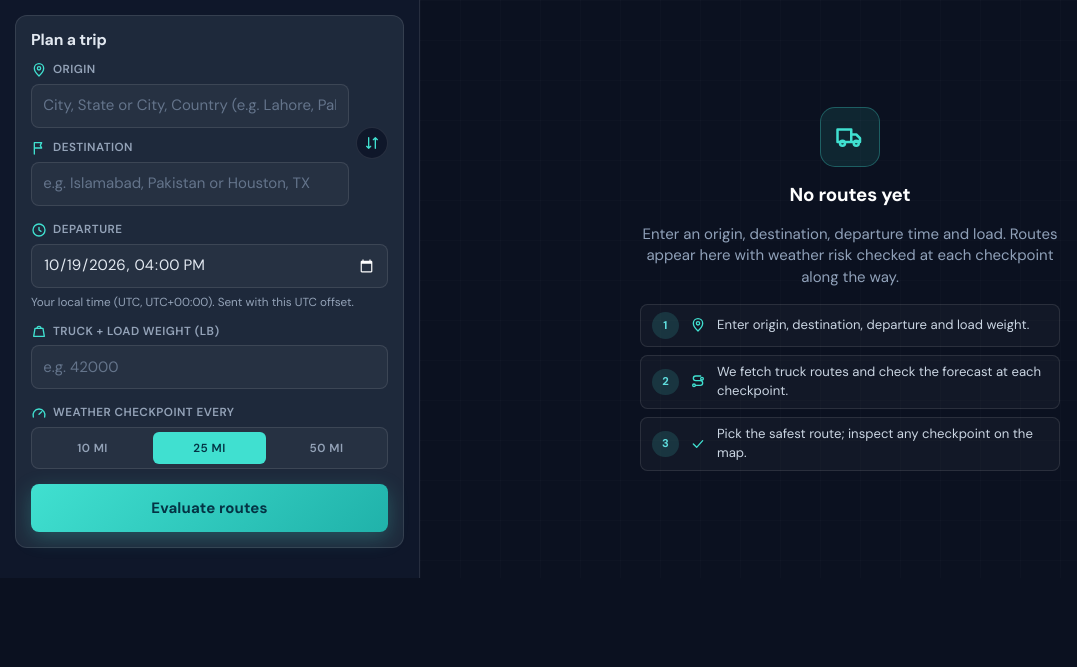
it: RoutePlanner › blocks submission and shows field errors for invalid input
Click the button "Evaluate routes". click: (210, 508)
box: [31,484,388,532]
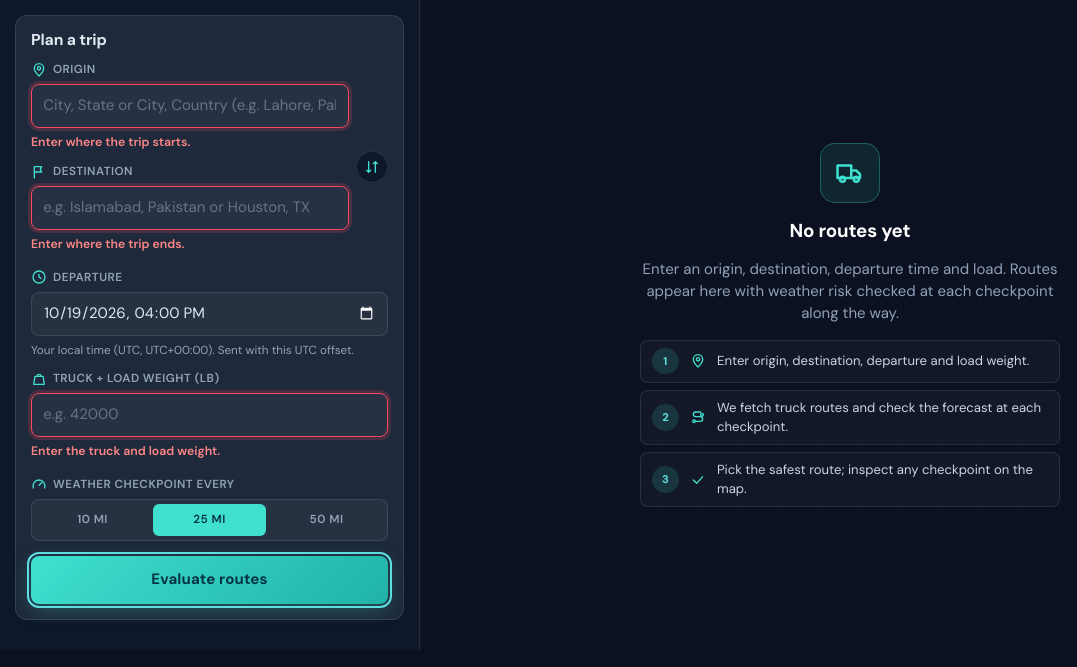
Now the text "Enter where the trip starts." is shown, box [31,134,190,150]
Now the text "Enter the truck and load weight." is shown, box [31,443,220,459]
